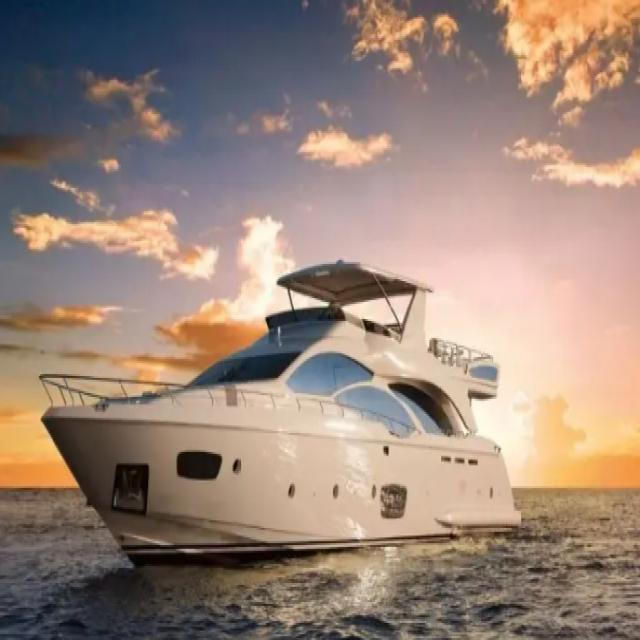houseboat: (40, 250, 531, 556)
